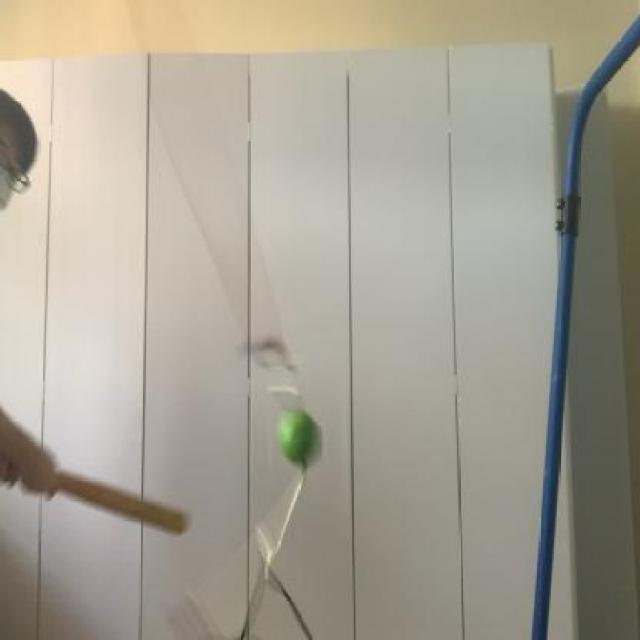baseball: (275, 396, 330, 472)
